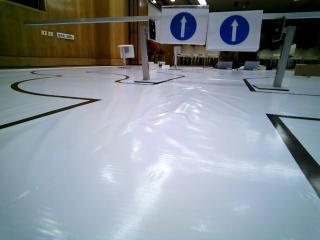straight: (205, 13, 259, 50), (159, 9, 207, 43)
